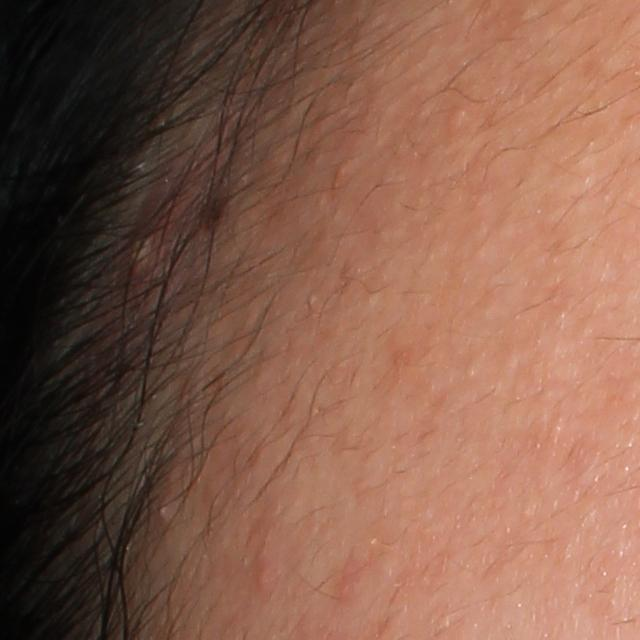comedo: (442, 106, 465, 136)
